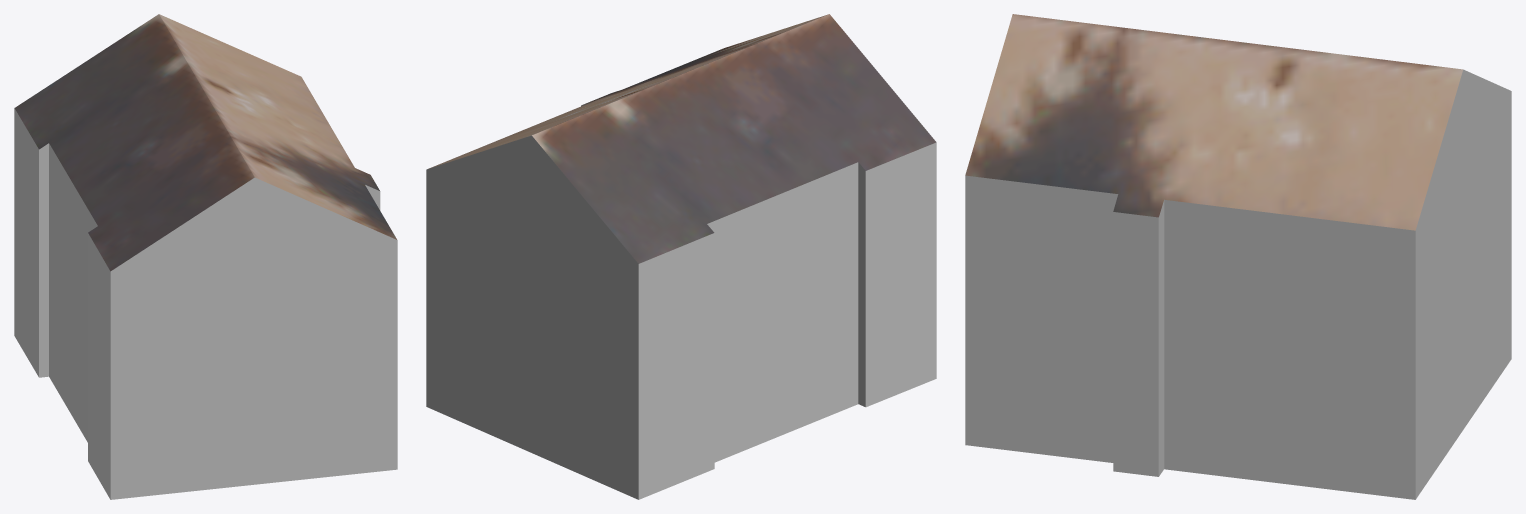
Rendered from DEBW_0010007Txbi.gltf.
3 views of the same model, side by side, from view 1: azimuth 30°, elevation 25°; view 2: azimuth 150°, elevation 25°; view 3: azimuth 270°, elevation 25° (orthographic). The views are drawn at different scales.
Visible parts, largest first — view 1: Z_UP; view 2: Z_UP; view 3: Z_UP.
Part boxes in pixels (bbox=[...]): Z_UP: bbox=[14, 14, 397, 499]; Z_UP: bbox=[426, 14, 936, 499]; Z_UP: bbox=[965, 14, 1511, 499].
Size of the model in its own units: 14.76 by 12.67 by 17.39.
2 materials, 1 textured.
